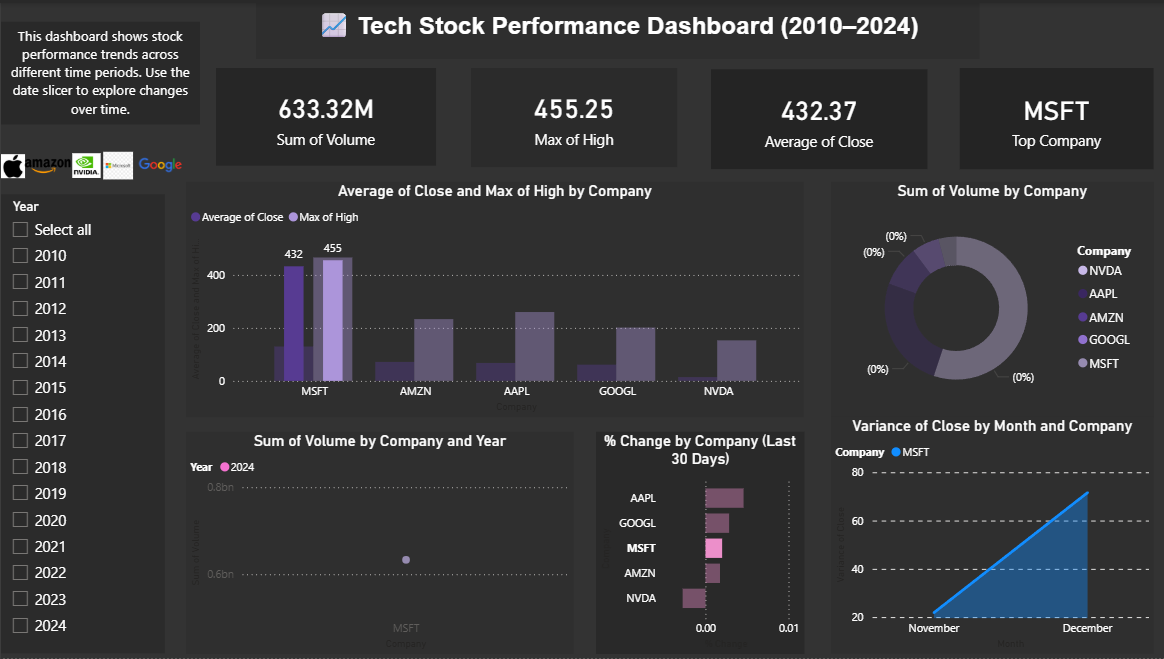

This screenshot's page, from the dashboard's own definition file:
{"tool":"powerbi","page":{"name":"Page 1","canvas":[1280,720],"ordinal":0},"visuals":[{"type":"card","fields":{"Values":["Max(Stock data.High)"]},"box":[516,71.4,226.4,108.4],"z":0},{"type":"clusteredColumnChart","fields":{"Category":["Stock data.Company"],"Y":["Avg(Stock data.Close)","Max(Stock data.High)"]},"box":[202.9,195.7,678.6,258.6],"z":1000},{"type":"slicer","fields":{"Values":["Stock data.Year"]},"box":[0,209.9,179.8,503.6],"z":2000},{"type":"card","fields":{"Values":["Sum(Stock data.Volume)"]},"box":[236,71.4,241.5,107],"z":3000},{"type":"textbox","box":[279.9,0,794.5,61.7],"z":4000},{"type":"donutChart","fields":{"Category":["Stock data.Company"],"Y":["Sum(Stock data.Volume)"]},"box":[911.4,195.7,354.3,258.6],"z":5000},{"type":"card","fields":{"Values":["Avg(Stock data.Close)"]},"box":[779.4,72.7,237.4,109.8],"z":6000},{"type":"image","box":[0,161.9,26.1,34.3],"z":7000},{"type":"image","box":[26.1,164.7,50.8,28.8],"z":8000},{"type":"image","box":[78.2,163.3,31.6,30.2],"z":9000},{"type":"image","box":[109.8,163.3,37,30.2],"z":10000},{"type":"image","box":[146.8,167.4,56.3,20.6],"z":11000},{"type":"areaChart","fields":{"Category":["Stock data.Date.Variation.Date Hierarchy.Month"],"Series":["Stock data.Company"],"Y":["Variance(Stock data.Close)"]},"box":[911.4,454.3,354.3,260],"z":12000},{"type":"card","fields":{"Values":["Stock data.Top Company"]},"box":[1052.5,71.4,212.7,111.1],"z":13000},{"type":"clusteredBarChart","title":"% Change by Company (Last 30 Days)","fields":{"Category":["Stock data.Company"],"Y":["Stock data.% Change"]},"box":[652.9,470,228.6,244.3],"z":14000},{"type":"textbox","box":[0,20.6,218.2,112.5],"z":15000},{"type":"areaChart","fields":{"Category":["Stock data.Company"],"Y":["Sum(Stock data.Volume)"],"Series":["Stock data.Year"]},"box":[202.9,470,425.7,244.3],"z":16000}]}

Visuals, with their boxes in screenshot pixels (x1, y1, x2, y2), scaled from the page's 1280x720 canvas onto the 1164x659 screenshot:
card - Max(Stock data.High): pyautogui.locateOnScreen(469, 65, 675, 165)
clusteredColumnChart - Stock data.Company x Avg(Stock data.Close): pyautogui.locateOnScreen(185, 179, 802, 416)
slicer - Stock data.Year: pyautogui.locateOnScreen(0, 192, 164, 653)
card - Sum(Stock data.Volume): pyautogui.locateOnScreen(215, 65, 434, 163)
textbox: pyautogui.locateOnScreen(255, 0, 977, 56)
donutChart - Stock data.Company x Sum(Stock data.Volume): pyautogui.locateOnScreen(829, 179, 1151, 416)
card - Avg(Stock data.Close): pyautogui.locateOnScreen(709, 67, 925, 167)
image: pyautogui.locateOnScreen(0, 148, 24, 180)
image: pyautogui.locateOnScreen(24, 151, 70, 177)
image: pyautogui.locateOnScreen(71, 149, 100, 177)
image: pyautogui.locateOnScreen(100, 149, 133, 177)
image: pyautogui.locateOnScreen(133, 153, 185, 172)
areaChart - Stock data.Date.Variation.Date Hierarchy.Month x Stock data.Company: pyautogui.locateOnScreen(829, 416, 1151, 654)
card - Stock data.Top Company: pyautogui.locateOnScreen(957, 65, 1151, 167)
"% Change by Company (Last 30 Days)" clusteredBarChart: pyautogui.locateOnScreen(594, 430, 802, 654)
textbox: pyautogui.locateOnScreen(0, 19, 198, 122)
areaChart - Stock data.Company x Sum(Stock data.Volume): pyautogui.locateOnScreen(185, 430, 572, 654)
